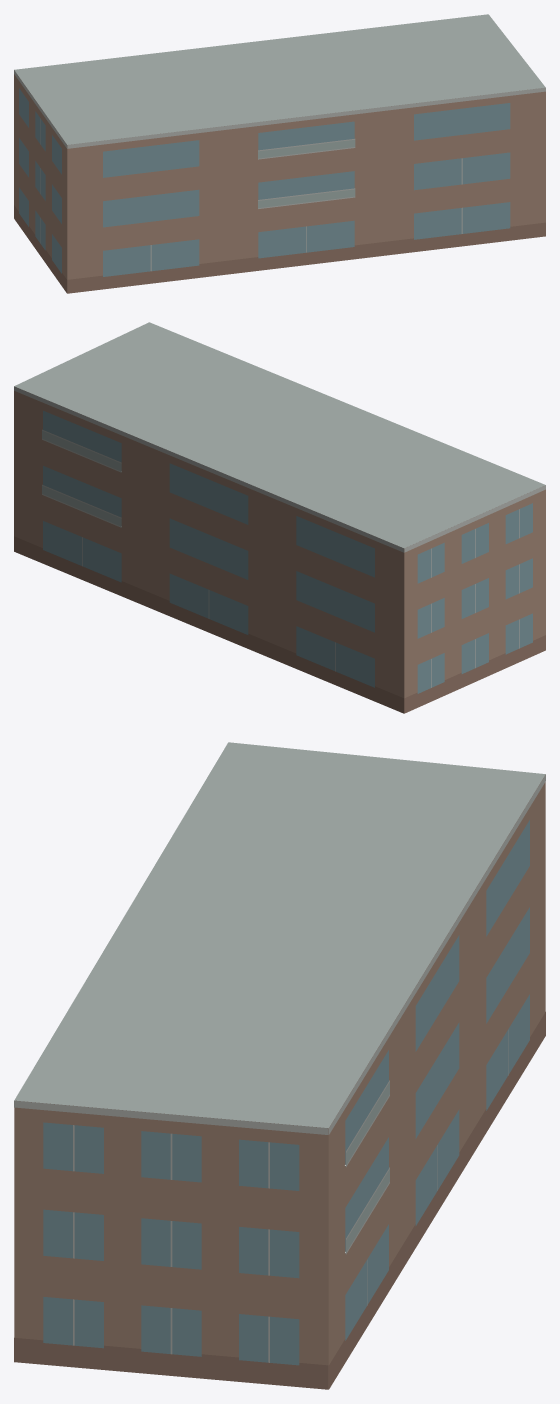
The model's file is survey-upis-32870199.glb.
3 renders of one model, top to bottom at view 1: azimuth 30°, elevation 25°; view 2: azimuth 150°, elevation 25°; view 3: azimuth 270°, elevation 25°, orthographic. The views are drawn at different scales.
Parts seen in each view (by area): view 1: survey-upis-32870199.tmp; view 2: survey-upis-32870199.tmp; view 3: survey-upis-32870199.tmp.
Part boxes in pixels (x1,y1,x2,y2): survey-upis-32870199.tmp: (14,14,545,293); survey-upis-32870199.tmp: (14,322,545,713); survey-upis-32870199.tmp: (14,742,545,1389).
Size of the model in its own units: 28.97 by 9.15 by 16.87.
